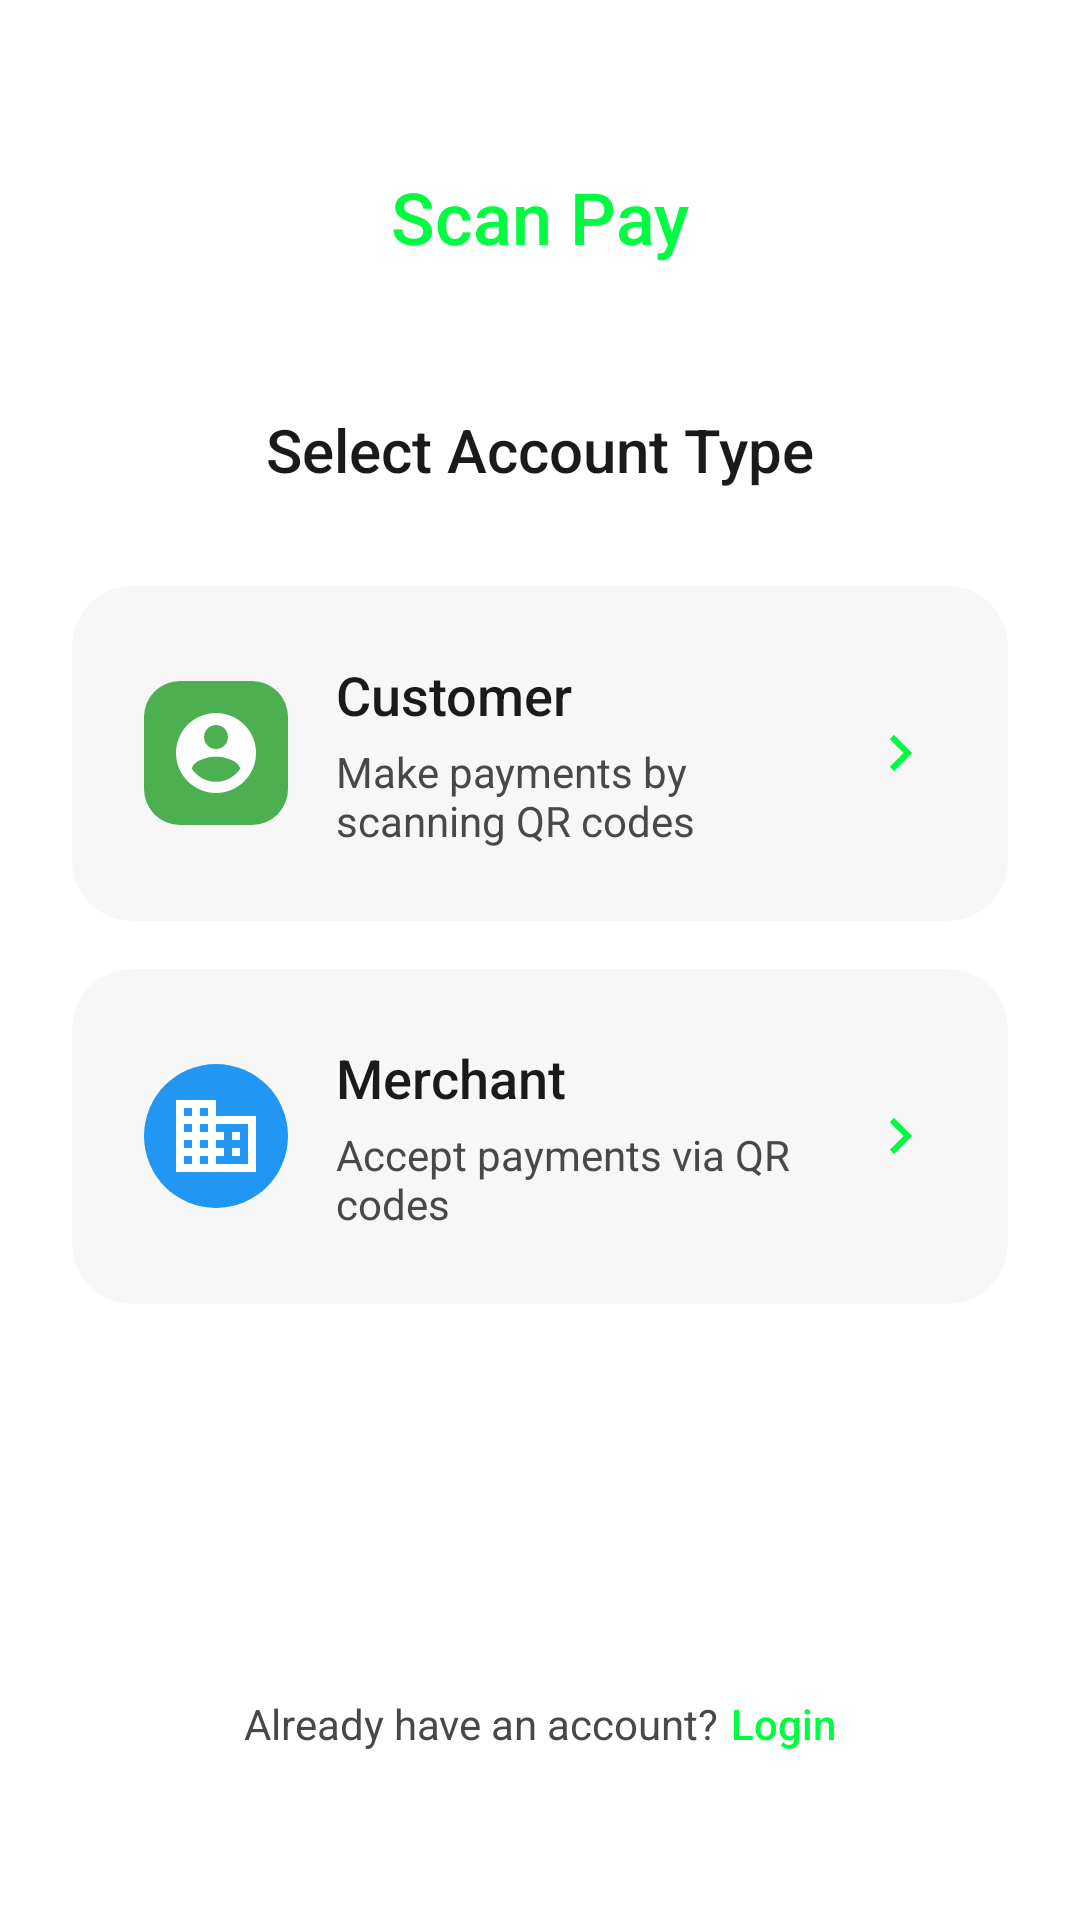

Icons on this 1080 x 1920 Android screen, each with its box as (x1, y1, x2, y2):
arrow right: (890, 735, 912, 771), (890, 1118, 912, 1154)
person: (144, 681, 288, 825)
